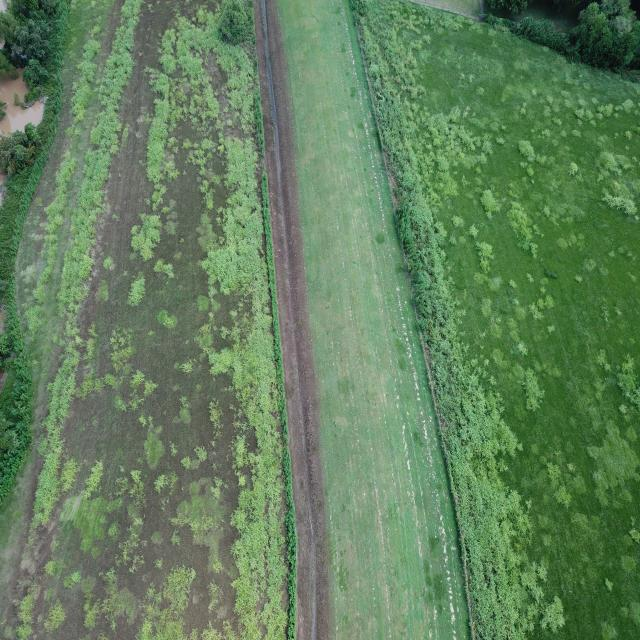fire: (0, 67, 43, 133)
